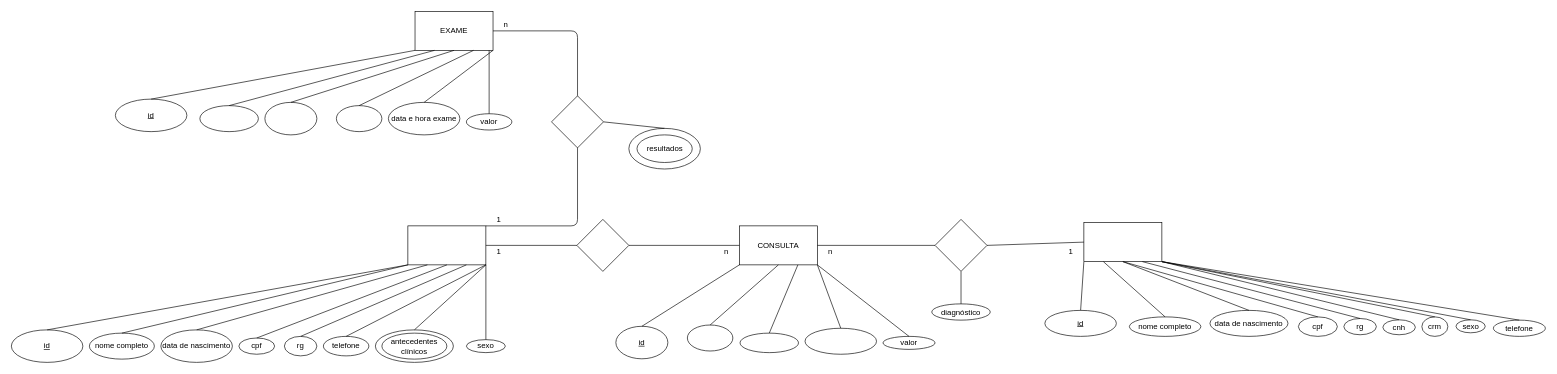
Image size: 1557x374. Some labels were removed from this diagram. The shapes that lost their labels are listed below. From the top down, each one's centre as x and y in pixels, then its label:
At (x=228, y=118): "Id consulta".
At (x=290, y=118): "area clínica".
At (x=359, y=118): "tipo".
At (x=577, y=121): "Faz".
At (x=446, y=245): "PACIENTE".
At (x=602, y=245): "Participa".
At (x=960, y=245): "Realiza".
At (x=1122, y=242): "MÉDICO".
At (x=710, y=337): "id paciente".
At (x=769, y=342): "id médico".
At (x=840, y=341): "data e hora da consulta".
